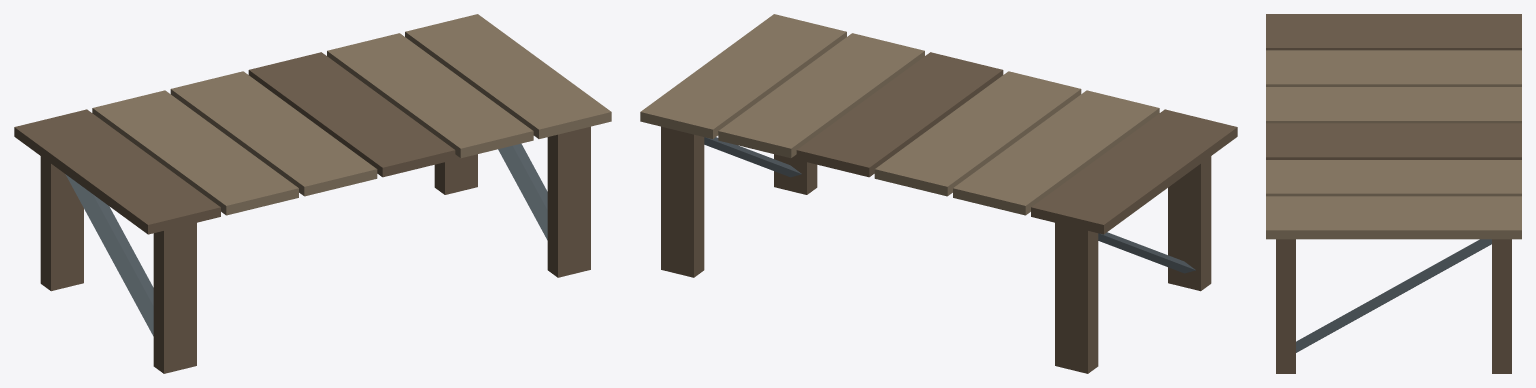
The model's file is repair_scaffold.glb.
3 renders of one model, left to right at view 1: azimuth 30°, elevation 25°; view 2: azimuth 150°, elevation 25°; view 3: azimuth 270°, elevation 25°, orthographic. The views are drawn at different scales.
Visible parts, largest first — view 1: repair_scaffold; view 2: repair_scaffold; view 3: repair_scaffold.
Boxes of the visible parts, x1=… form: repair_scaffold: x1=14, y1=14, x2=611, y2=373; repair_scaffold: x1=640, y1=14, x2=1237, y2=373; repair_scaffold: x1=1266, y1=14, x2=1521, y2=373.
Size of the model in its own units: 3.84 by 1.25 by 1.92.
